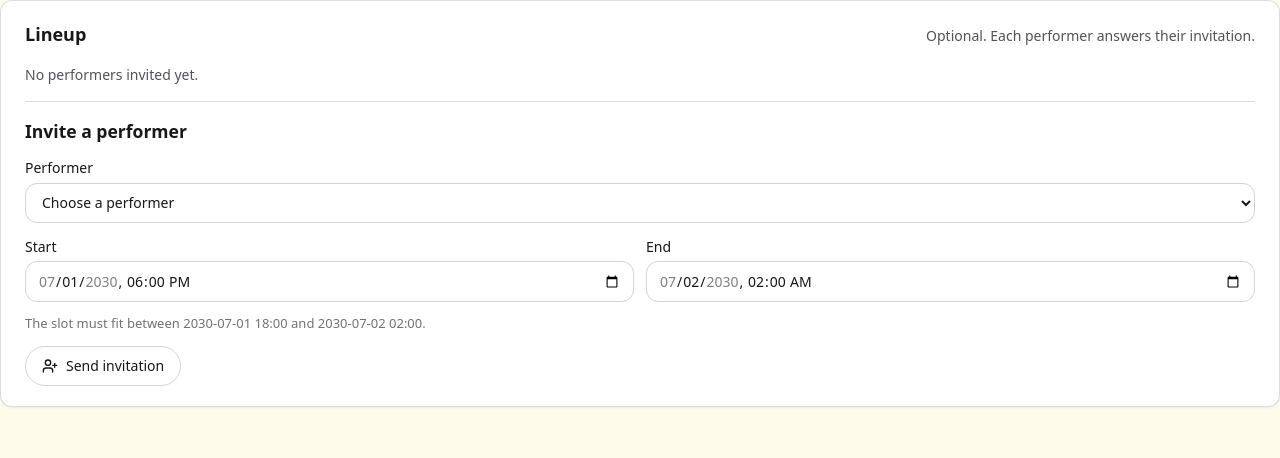
LineupSection › asks for a performer before inviting
The image size is (1280, 458).
Click the button "Send invitation": (103, 366) [25, 346, 181, 386]
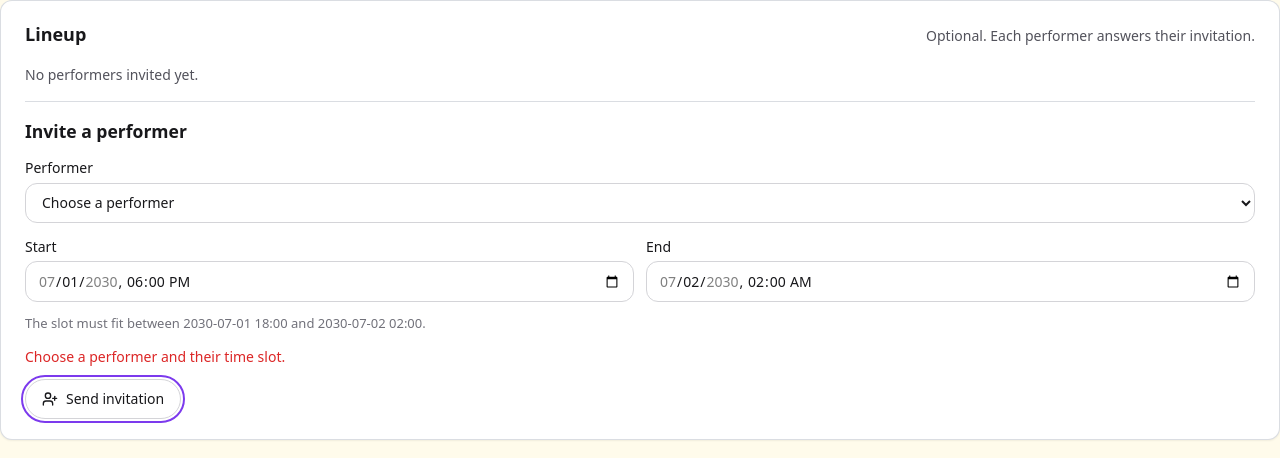
Expected: the text "Choose a performer and their time slot." is shown, [25, 347, 285, 366]
